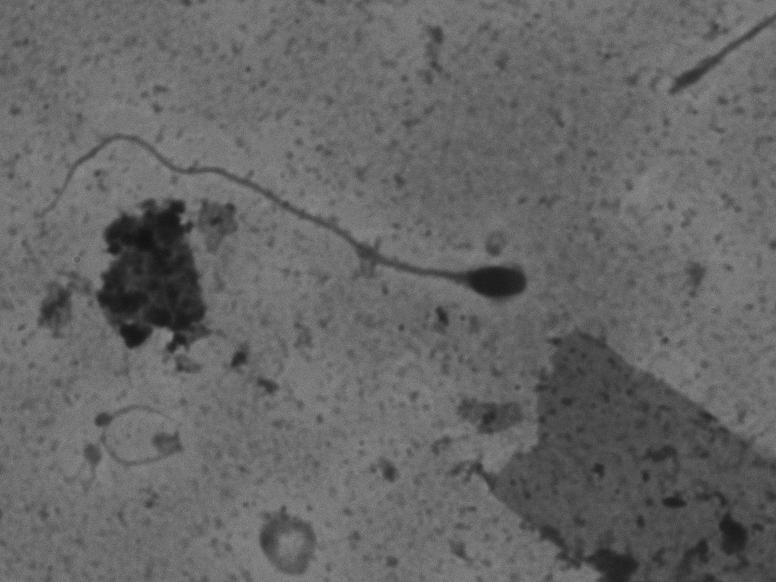Normal: (13, 107, 534, 311)
